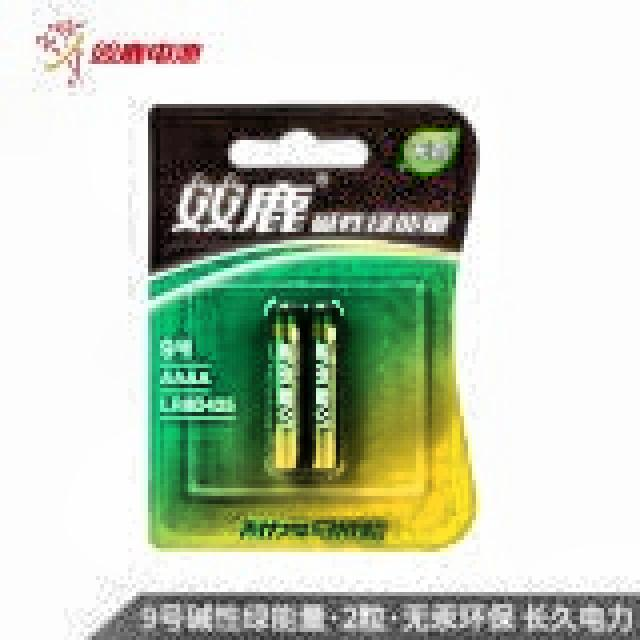Non-Valuable Waste - Batteries: (269, 302, 340, 471)
